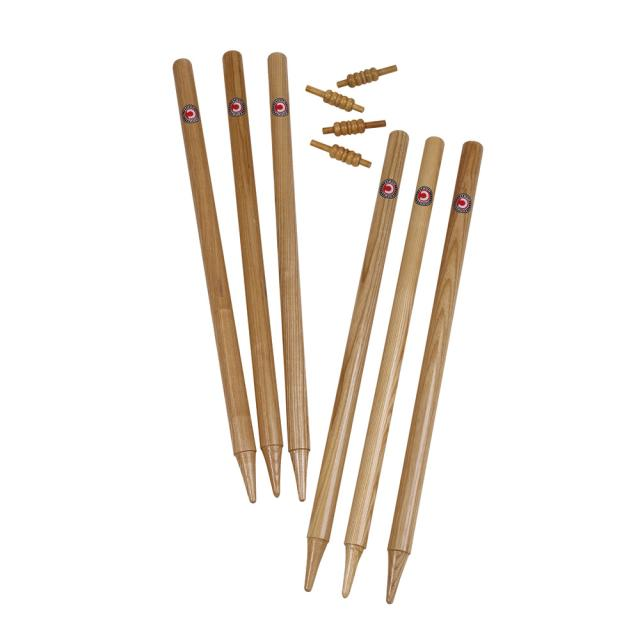stump: (304, 129, 485, 606), (169, 49, 314, 506)
